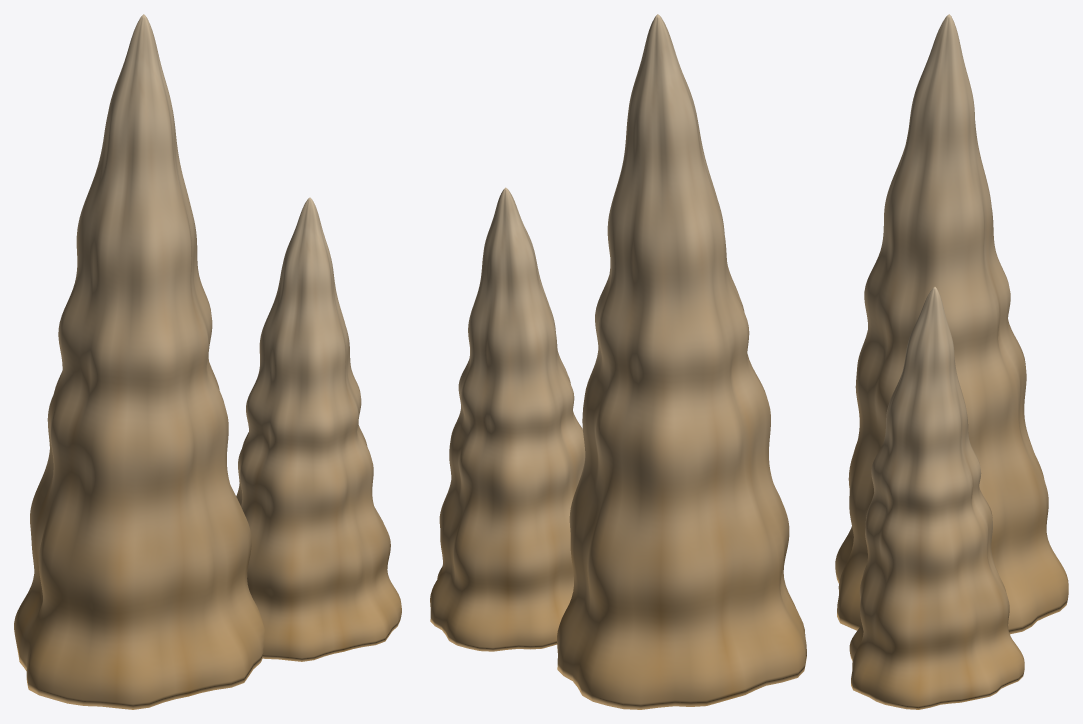
The model's file is stalagmite-2.glb.
The picture shows the model from 3 angles, left to right: view 1: azimuth 30°, elevation 25°; view 2: azimuth 150°, elevation 25°; view 3: azimuth 270°, elevation 25°; orthographic projection. The views are drawn at different scales.
Visible parts, largest first — view 1: Stalagmite 1, Stalagmite 2; view 2: Stalagmite 1, Stalagmite 2; view 3: Stalagmite 1, Stalagmite 2.
Boxes of the visible parts, x1,y1,x2,y2 form: Stalagmite 1: (14,14,264,709); Stalagmite 2: (236,197,401,661); Stalagmite 1: (557,14,806,709); Stalagmite 2: (430,187,585,651); Stalagmite 1: (835,14,1068,634); Stalagmite 2: (849,287,1024,709).
Bounding box in the file's own units: 0.5942 × 1 × 0.3584.
